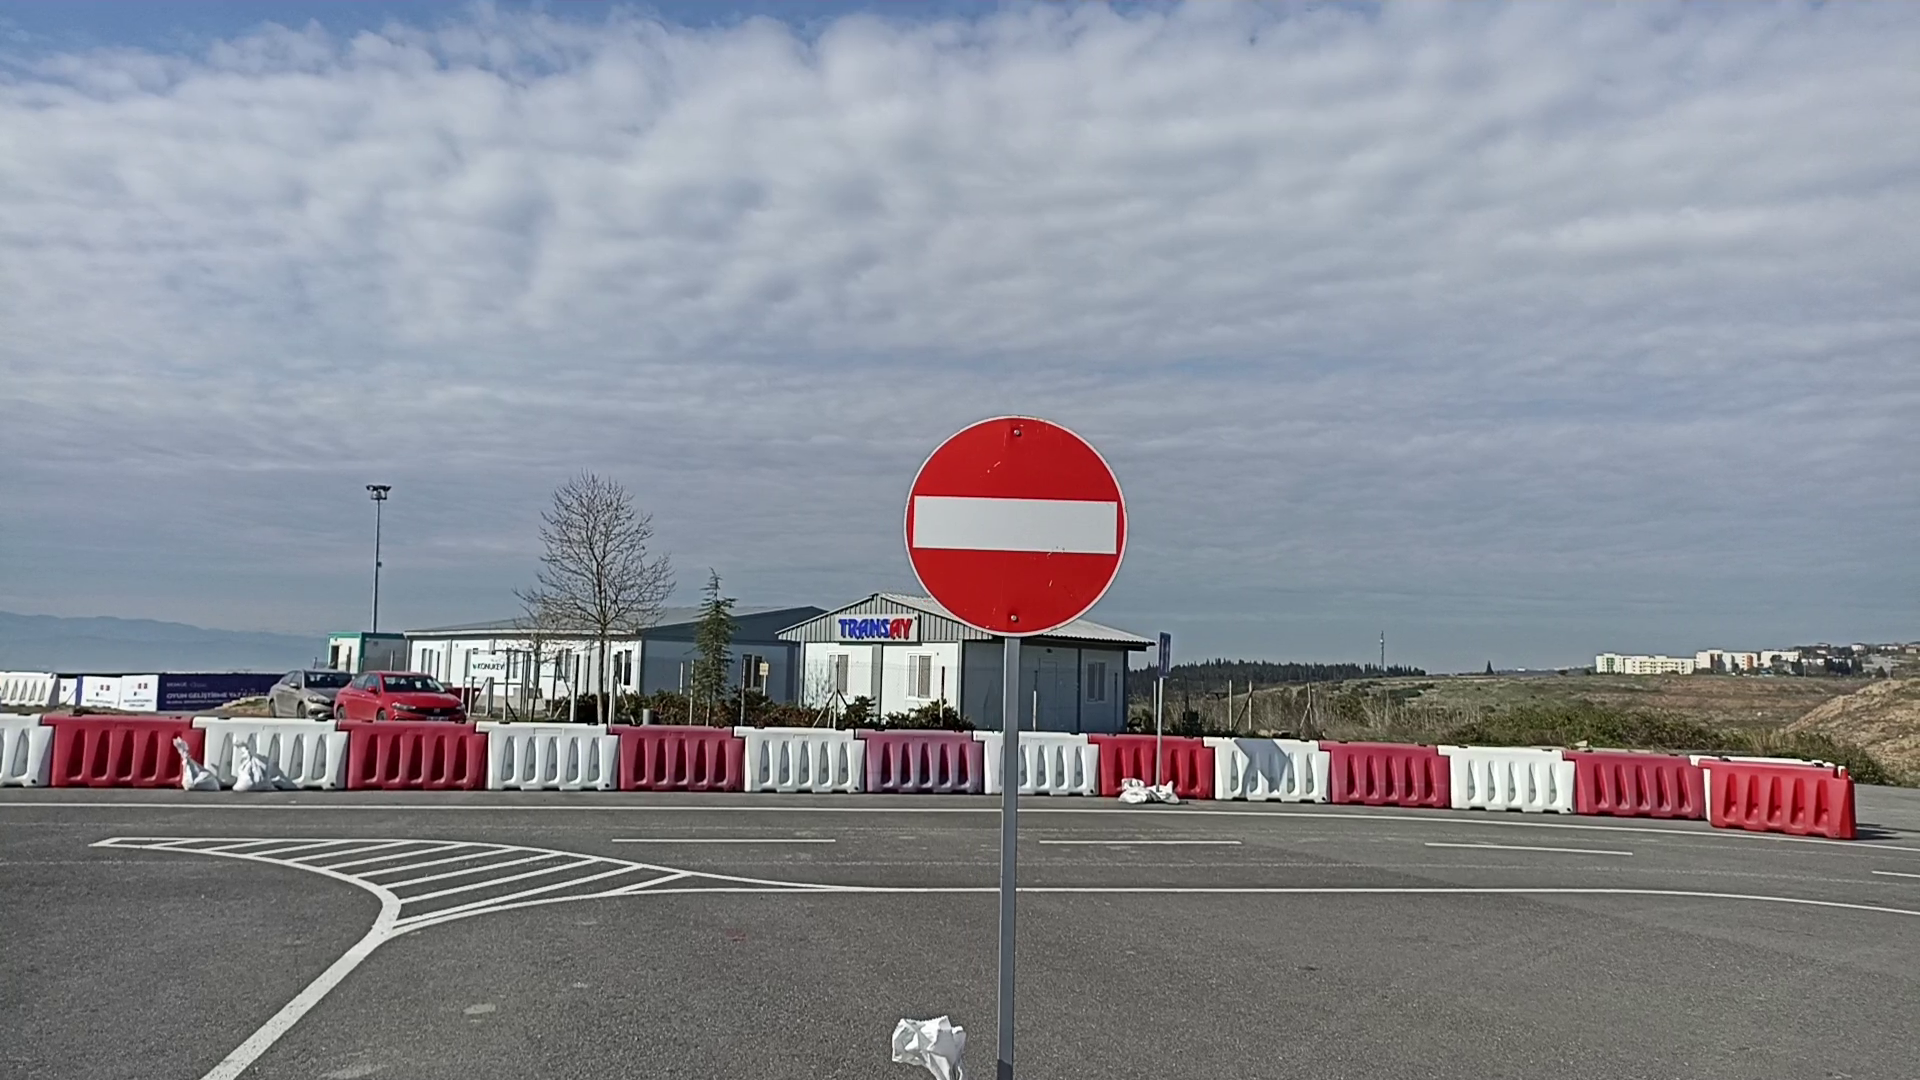noentryway: (899, 410, 1131, 641)
